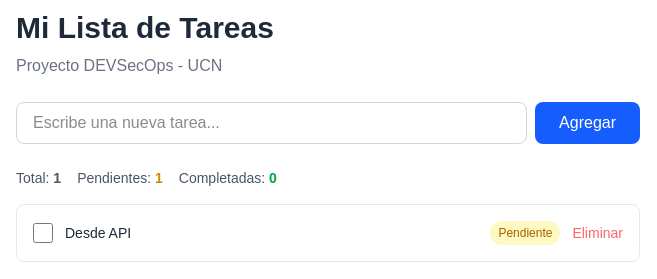
Test: TodoApp › permite completar y eliminar una tarea
The width and height of the screenshot is (657, 279).
Click the checkbox named "Marcar Desde API".
click(43, 233)  # box [33,223,53,243]
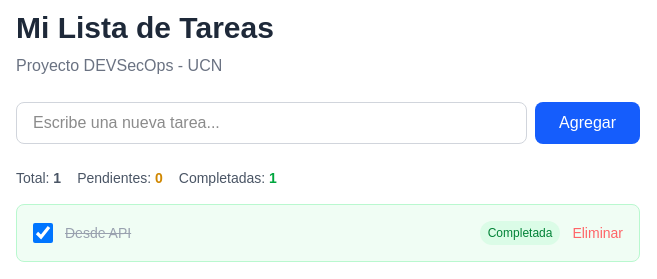
Expected: the text "Completada" is shown, [480,221,560,245]
Click the button with aria-label "Eliminar Desde API".
click(598, 233)  # box [572,223,623,243]
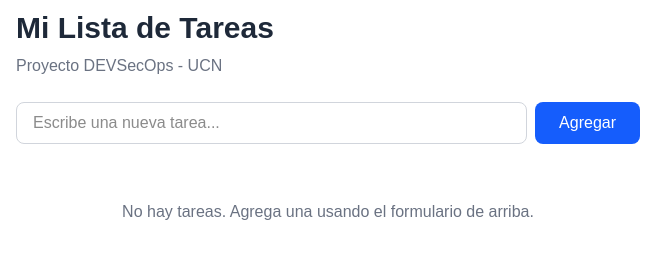
Expected: the text "Desde API" is gone
Expected: the text "No hay tareas. Agrega una usando el formulario de arriba." is shown, [122,203,534,220]
